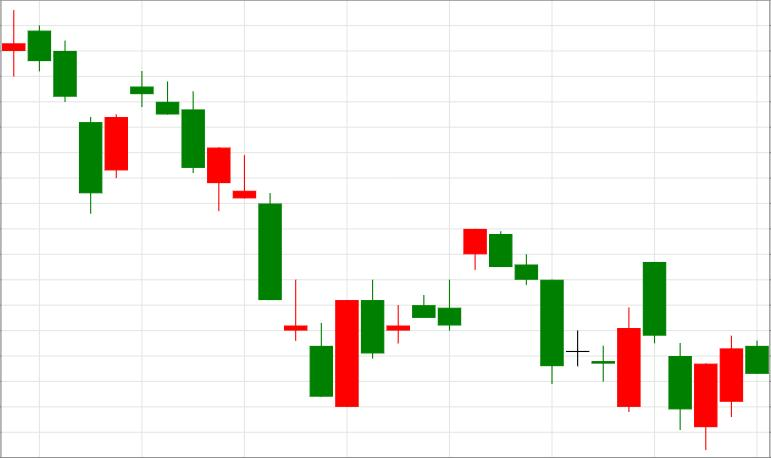bullish_engulfing_rise: (131, 72, 359, 408)
